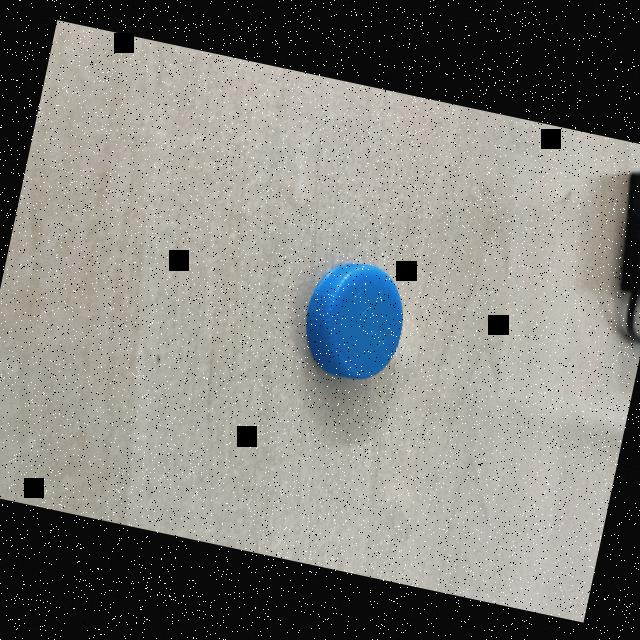plastic_bottle_cap: (290, 241, 424, 401)
